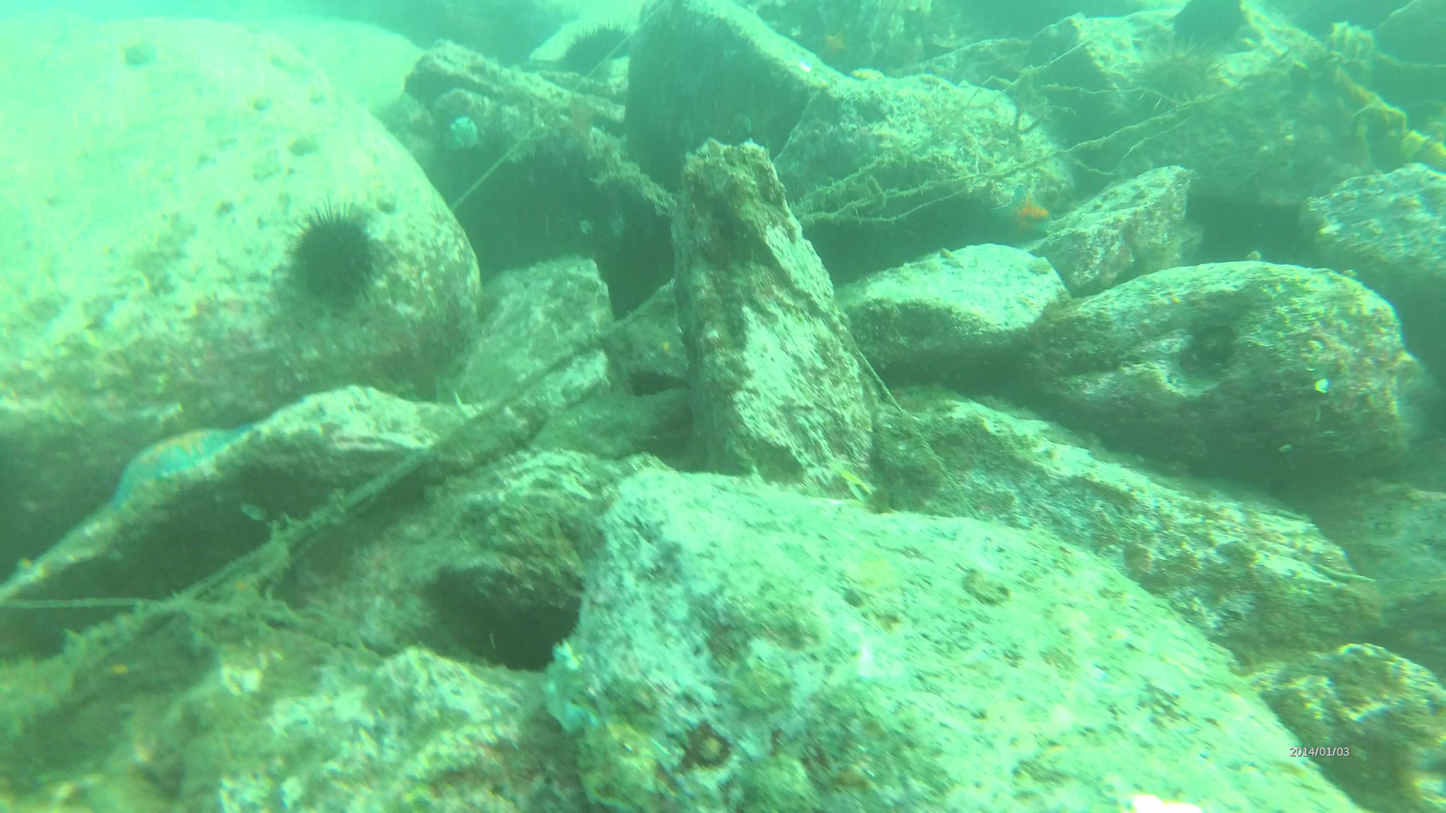holothurian: (103, 426, 256, 524), (994, 184, 1058, 248), (814, 26, 856, 65)
starfish: (285, 211, 380, 307), (1135, 39, 1219, 111), (564, 24, 630, 82)
